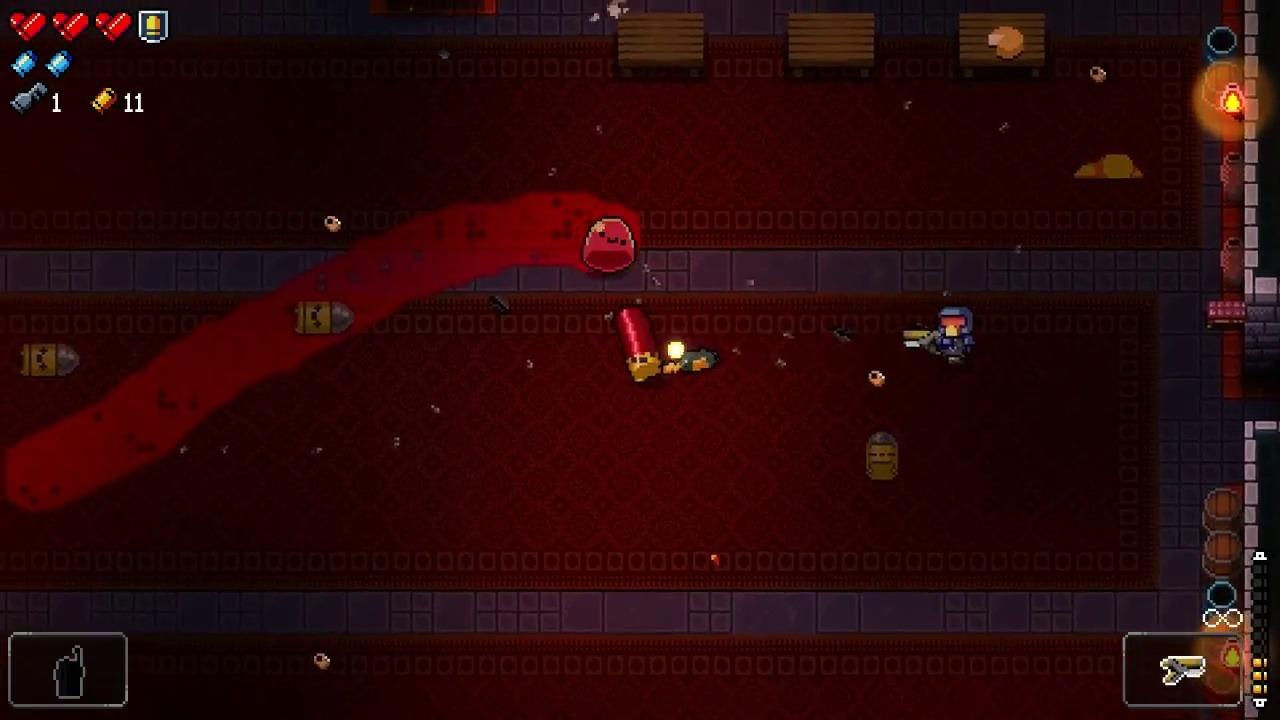blobulon_l: (580, 216, 637, 273)
dead_apprentice_gunjurer: (1073, 156, 1144, 177)
dead_bullet_kin: (22, 342, 82, 375), (297, 300, 355, 334), (867, 432, 899, 482)
player: (937, 309, 974, 362)
red_shotgun_kin: (614, 305, 666, 383)
table: (788, 13, 873, 79), (960, 13, 1045, 79), (618, 15, 703, 78)
